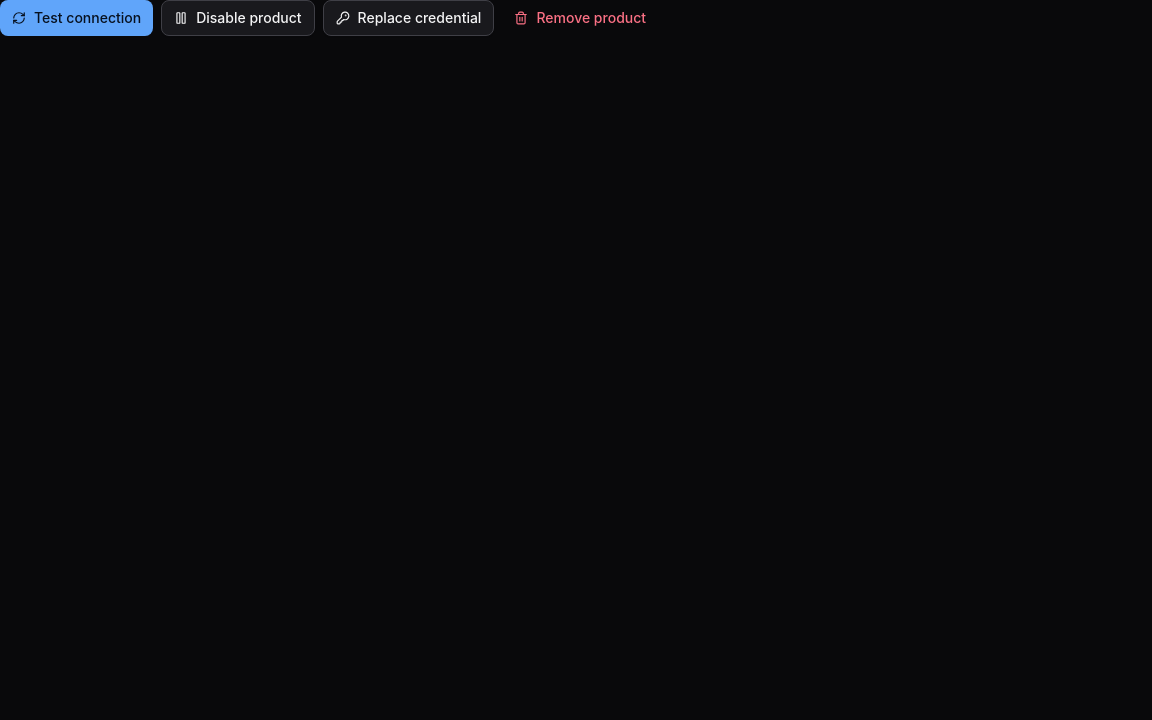
Test: product management UI › offers a safe return to the product after fresh authentication
Step 1. Click the button "Disable product" → [238, 18], box [161,0,315,36]
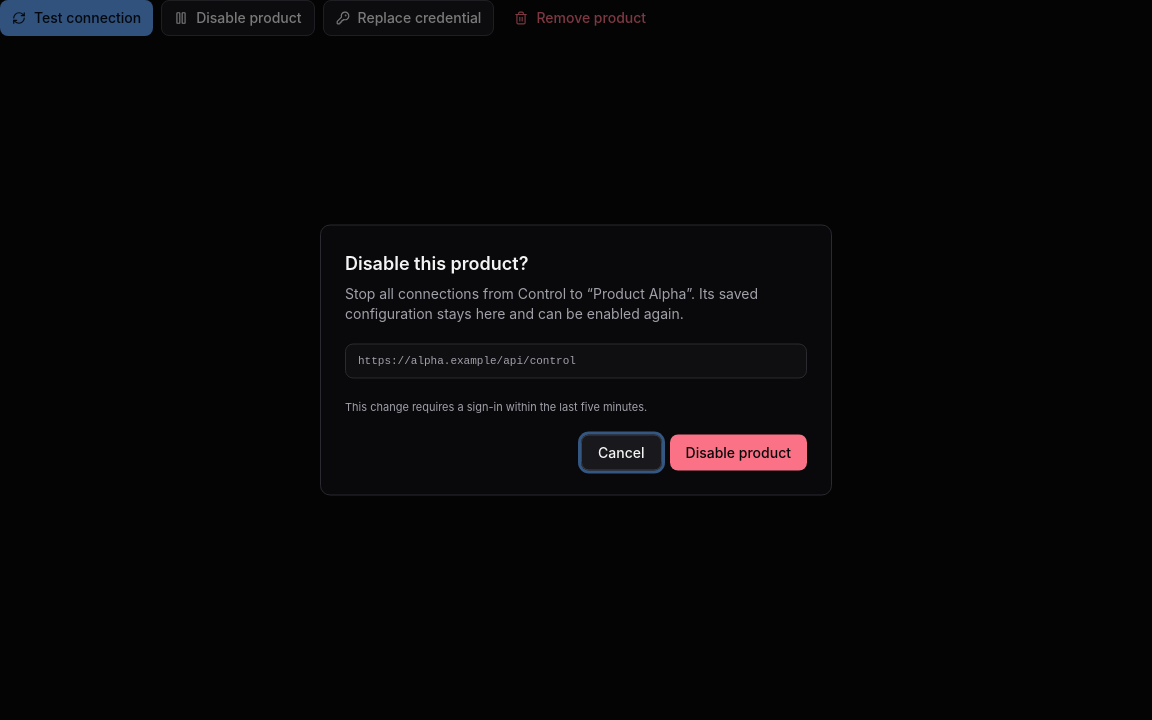
Step 2. Click the button "Disable product" → [738, 452], box [670,434,807,470]
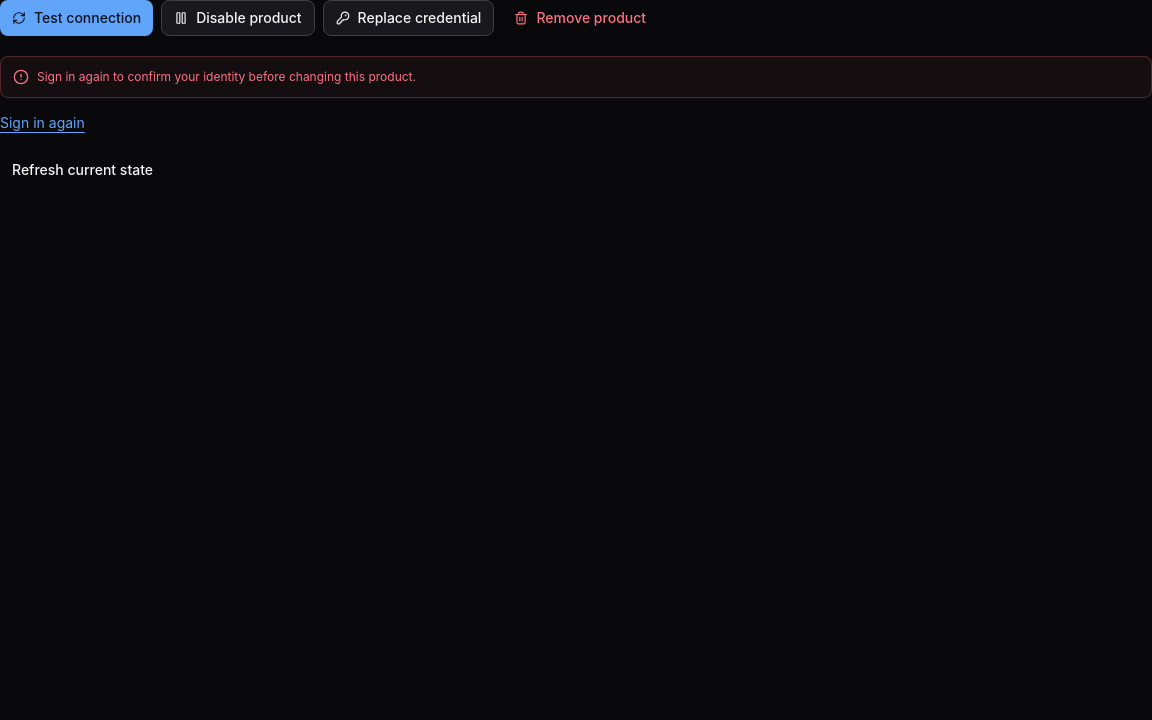
Expected: the message shows "Sign in again", [37,69,416,84]
